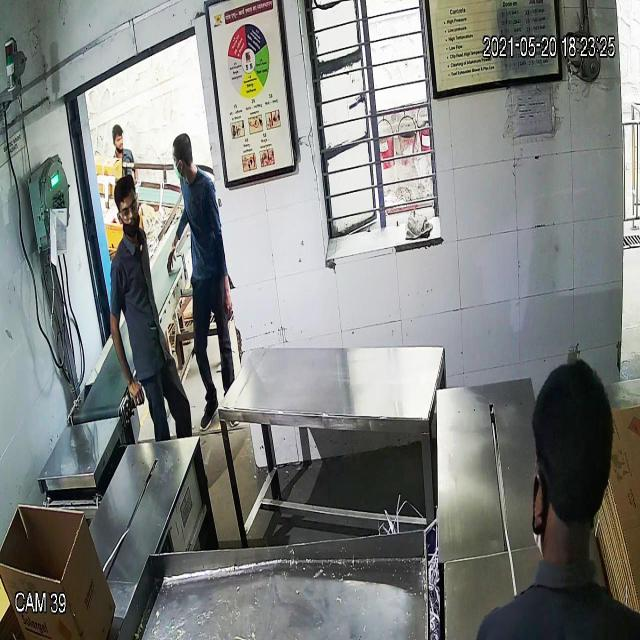glasses: (115, 196, 143, 222)
